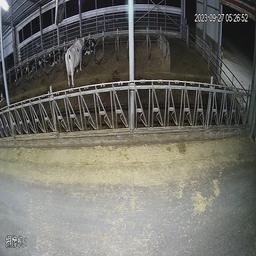cow: (61, 26, 85, 92), (44, 40, 59, 71), (26, 49, 41, 74), (87, 31, 98, 54)
